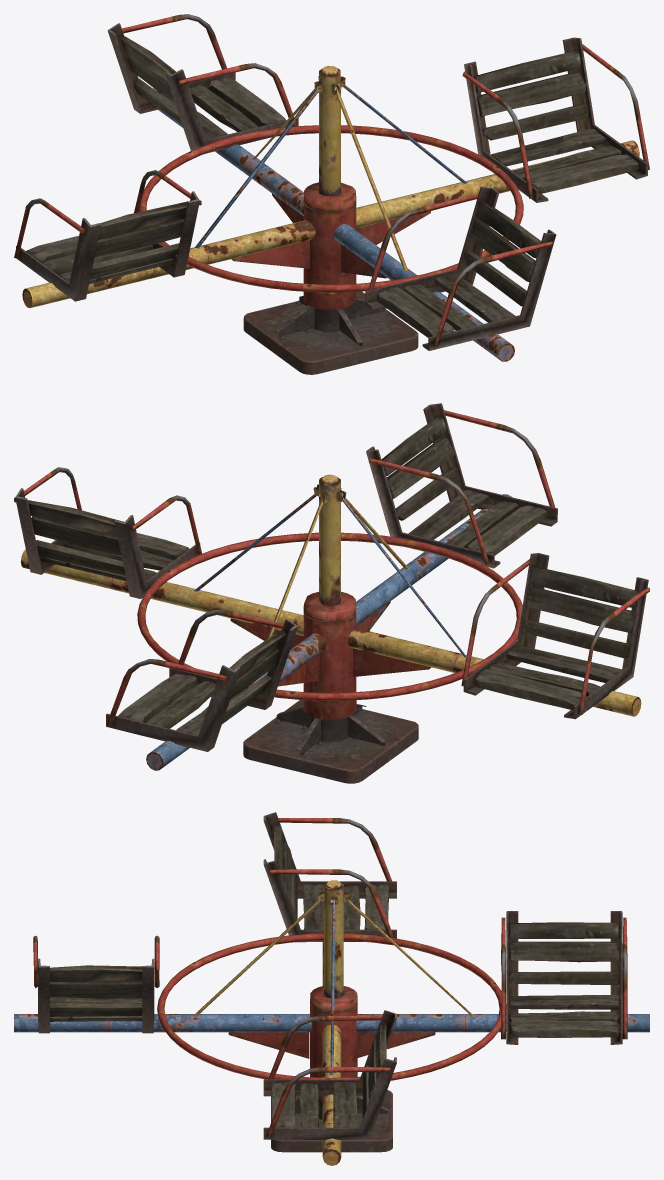
Rendered from playground_roundabout_a.glb.
The picture shows the model from 3 angles, top to bottom: view 1: azimuth 30°, elevation 25°; view 2: azimuth 150°, elevation 25°; view 3: azimuth 270°, elevation 25°; orthographic projection. The views are drawn at different scales.
Visible parts, largest first — view 1: playground_roundabout_a_seats, playground_roundabout_a_base; view 2: playground_roundabout_a_seats, playground_roundabout_a_base; view 3: playground_roundabout_a_seats, playground_roundabout_a_base.
Part boxes in pixels (x1,y1,x2,y2): playground_roundabout_a_seats: [14, 14, 649, 361]; playground_roundabout_a_base: [243, 291, 418, 374]; playground_roundabout_a_seats: [14, 403, 649, 770]; playground_roundabout_a_base: [243, 700, 418, 783]; playground_roundabout_a_seats: [14, 812, 649, 1165]; playground_roundabout_a_base: [271, 1090, 392, 1152].
Bounding box in the file's own units: 2.6 × 1.1 × 2.6.
Materials: 3 (3 with a texture image).
